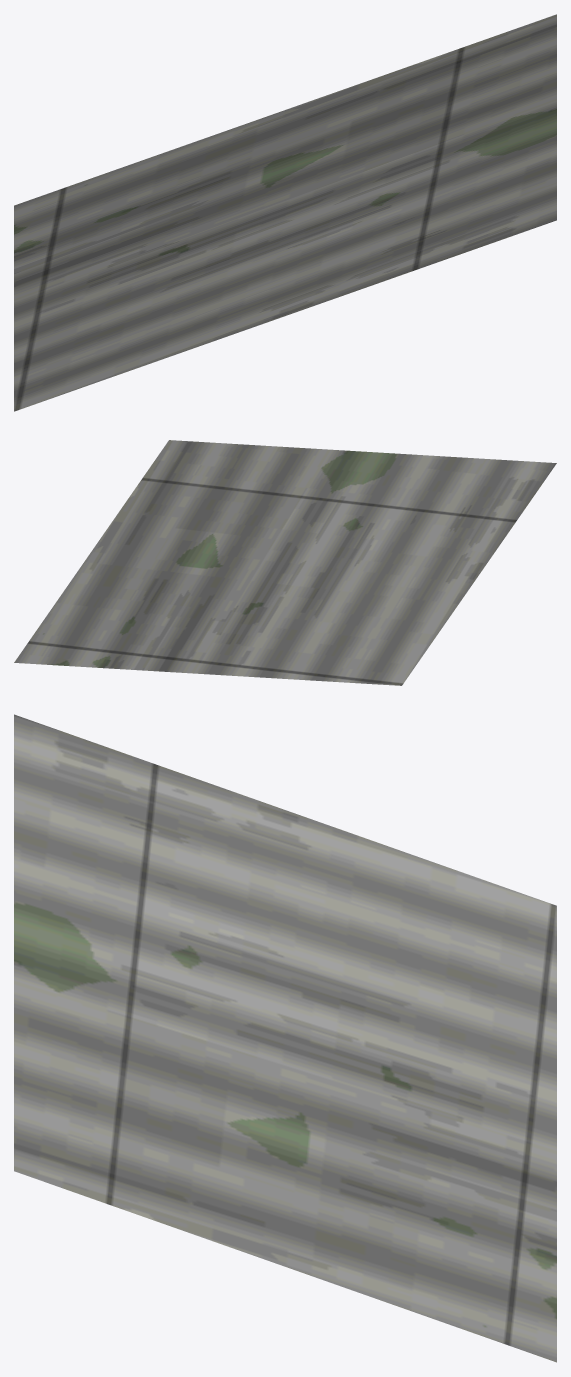
Rendered from chapa_fibro_solta.glb.
3 renders of one model, top to bottom at view 1: azimuth 90°, elevation 25°; view 2: azimuth 150°, elevation 25°; view 3: azimuth 270°, elevation 25°, orthographic. The views are drawn at different scales.
Visible parts, largest first — view 1: Malha_0; view 2: Malha_0; view 3: Malha_0.
Boxes of the visible parts, x1,y1,x2,y2 form: Malha_0: (14,14,556,411); Malha_0: (14,440,556,685); Malha_0: (14,714,556,1362).
Bounding box in the file's own units: 1.3 × 0.5792 × 0.9.
Materials: 2 (1 with a texture image).
